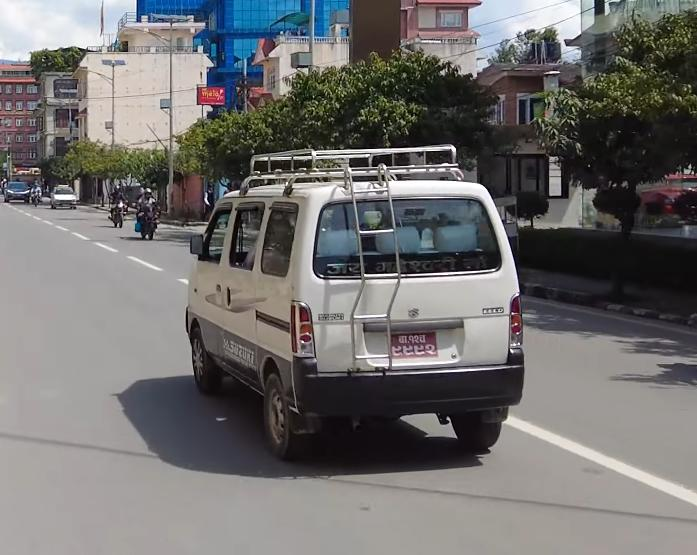bike: (129, 196, 163, 246), (107, 196, 128, 229)
taxi: (48, 181, 80, 215)
van: (180, 142, 532, 475)
